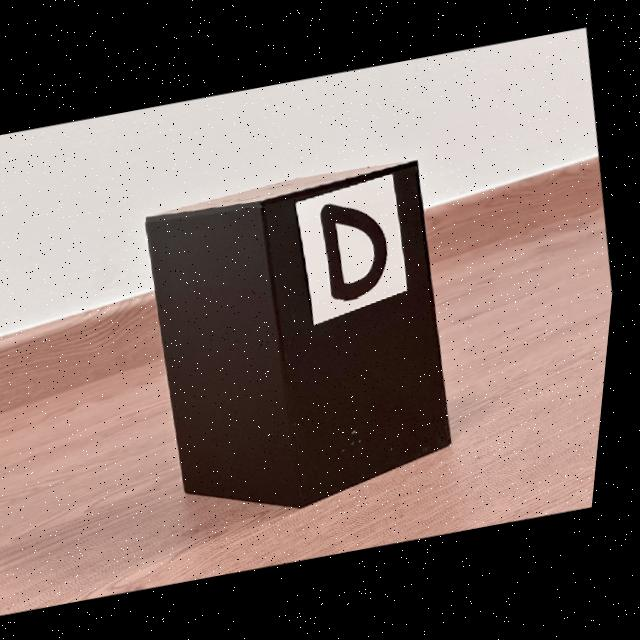D: (325, 204, 393, 300)
